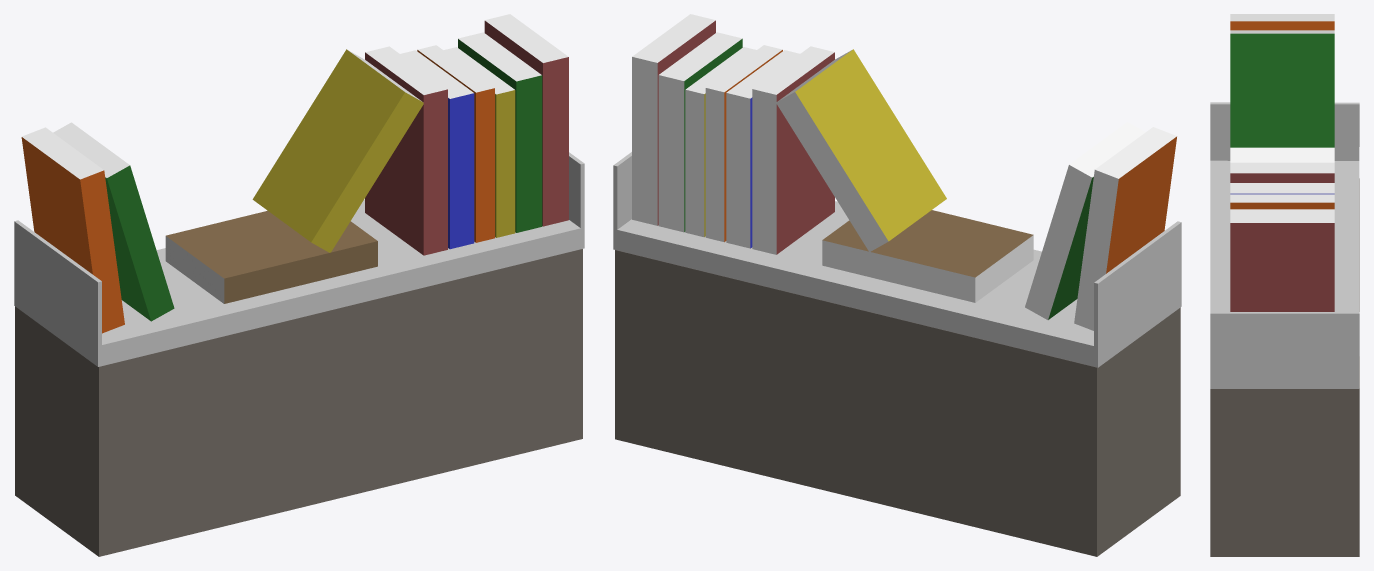
File: ReceptionDesk_02.obj
The picture shows the model from 3 angles, left to right: view 1: azimuth 30°, elevation 25°; view 2: azimuth 150°, elevation 25°; view 3: azimuth 270°, elevation 25°; orthographic projection. The views are drawn at different scales.
Parts seen in each view (by area): view 1: WallBookshelf02; view 2: WallBookshelf02; view 3: WallBookshelf02.
Part boxes in pixels (x1,y1,x2,y2): WallBookshelf02: (14,14,584,556); WallBookshelf02: (613,14,1181,556); WallBookshelf02: (1210,14,1359,556).
Bounding box in the file's own units: 5.43 × 3.99 × 1.6.
